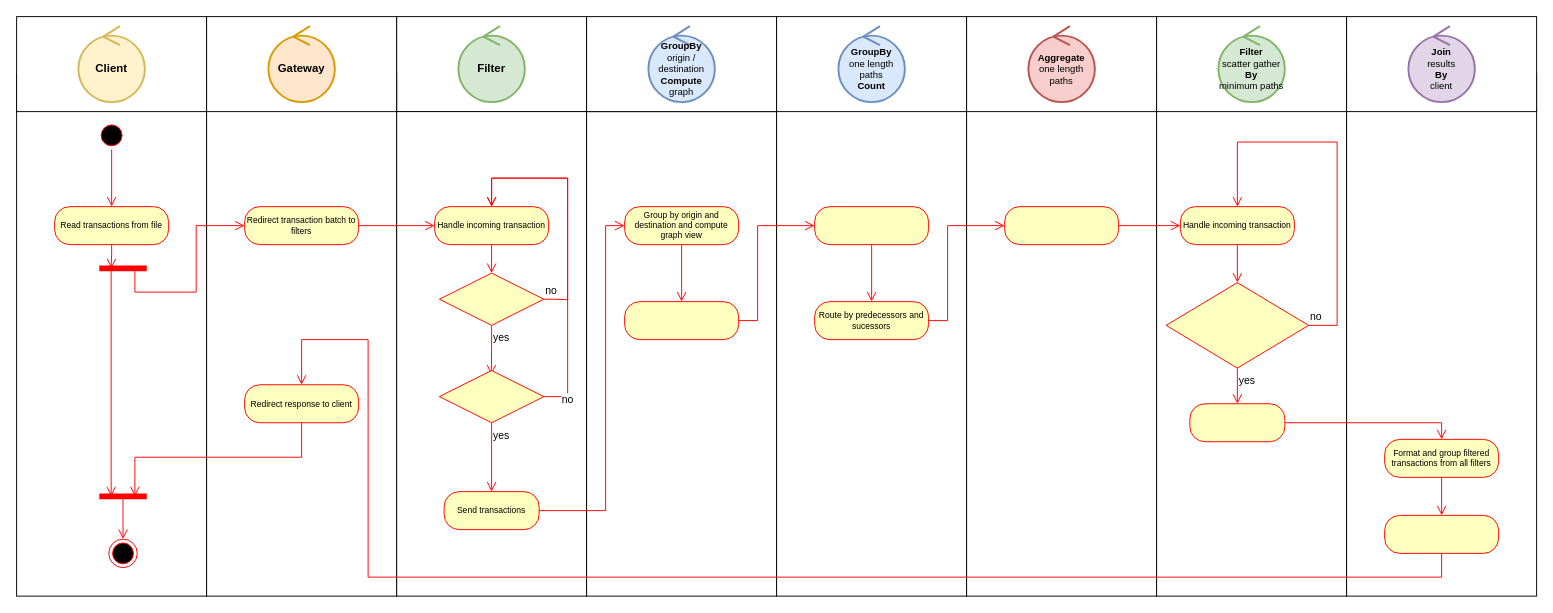
Image size: 1553x613. Some labels were removed from this diagram. The shapes that lost their labels are listed below. From the top down, each one's centre as x and y in pixels, then its label:
the point at 871,225: Count all 1 length paths for each predecessor-sucessor pair
the point at 1061,225: Count all paths for each predecessor-sucessor pair
the point at 491,298: Currency == USD
the point at 681,320: Route by node
the point at 1237,325: Amount of paths >= 5
the point at 491,396: Date in period A
the point at 1237,422: Route by client
the point at 1441,533: Send transactions to gateway
